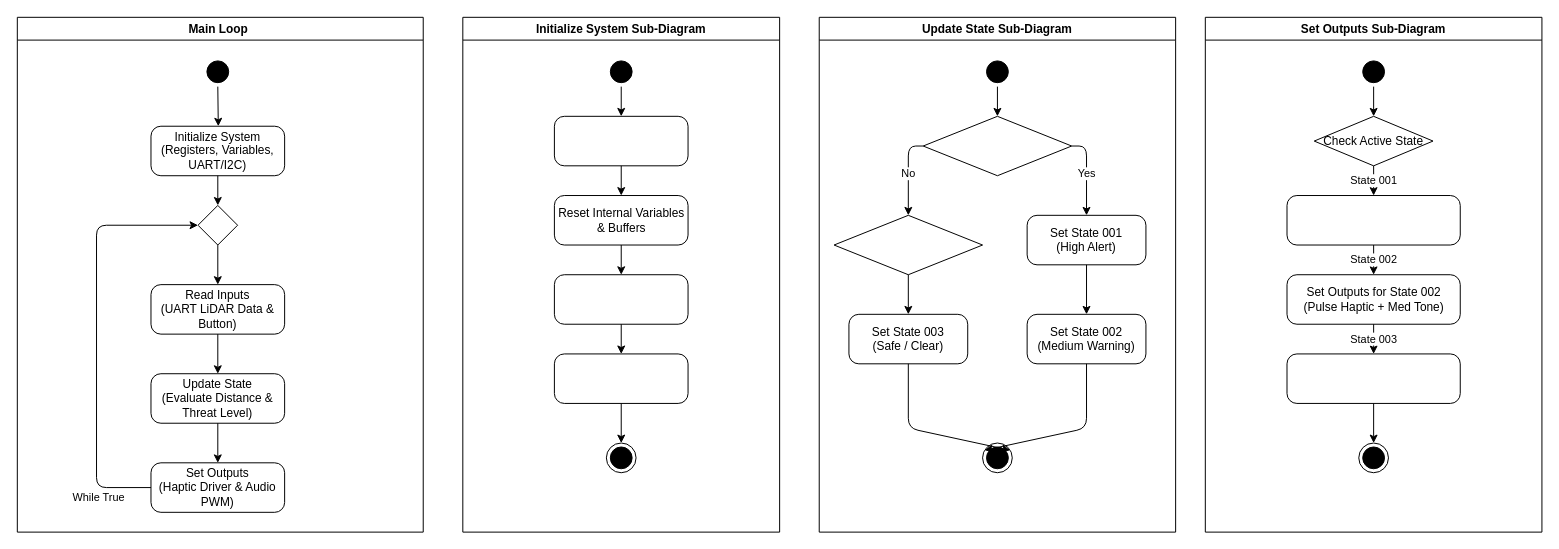
This 1559x549 diagram has some shape labels left out. Each missing label, with the centre of its shape:
"Condition 1: Distance < Critical Threshold?" belongs at [997,145].
"Condition 2: Distance < Warning Threshold?" belongs at [908,244].
"Establish Communication (LiDAR & Drivers)" belongs at [620,299].
"Set Hardware Registers (GPIO, UART, I2C)" belongs at [620,140].
"Set Outputs for State 001 (Strong Haptic + High Tone)" belongs at [1373,220].
"Set Outputs for State 003 (No Output / Idle)" belongs at [1373,378].
"Set State 000 (Idle / Ready)" belongs at [620,378].
